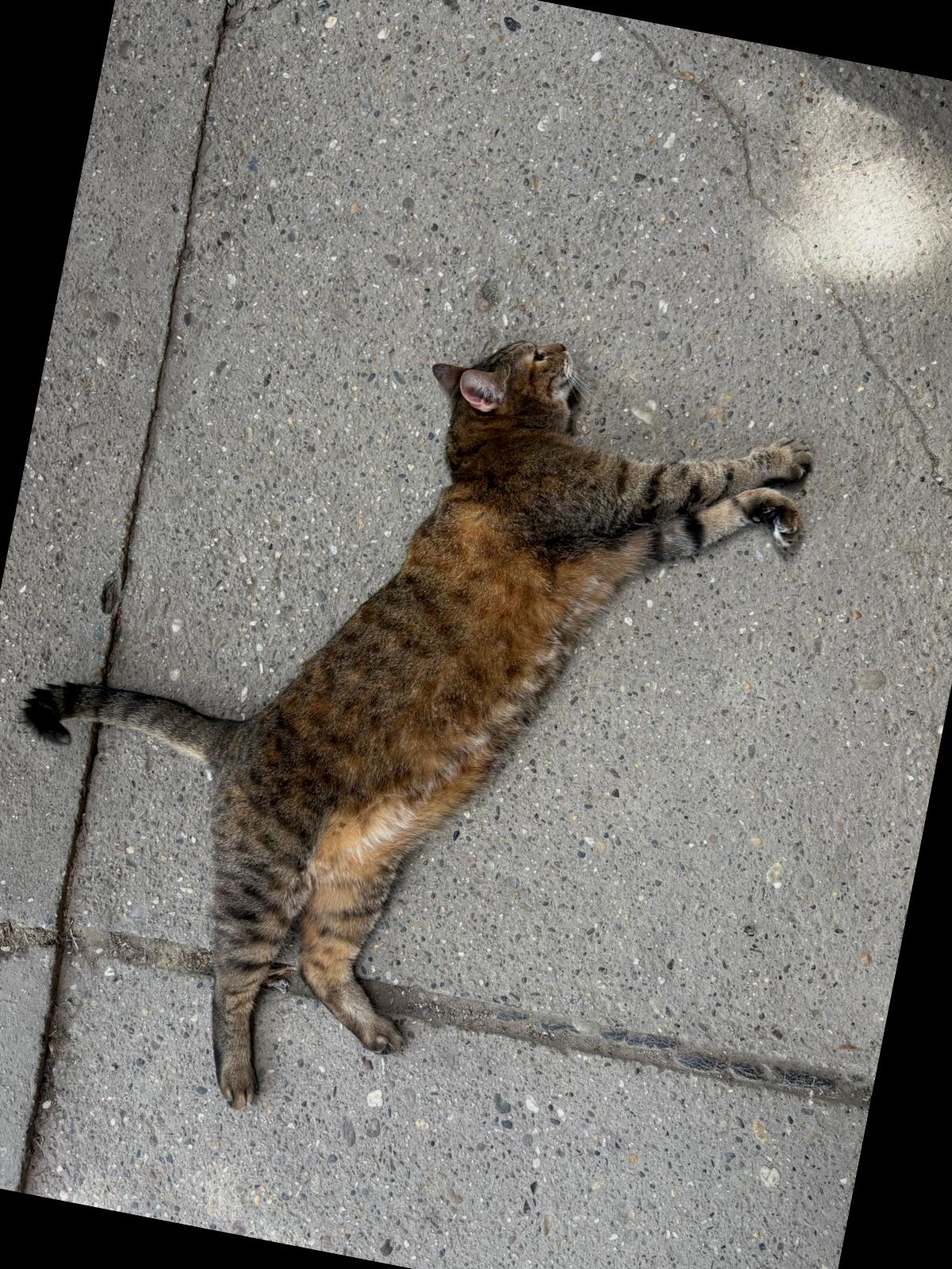macka: (0, 251, 827, 1185)
